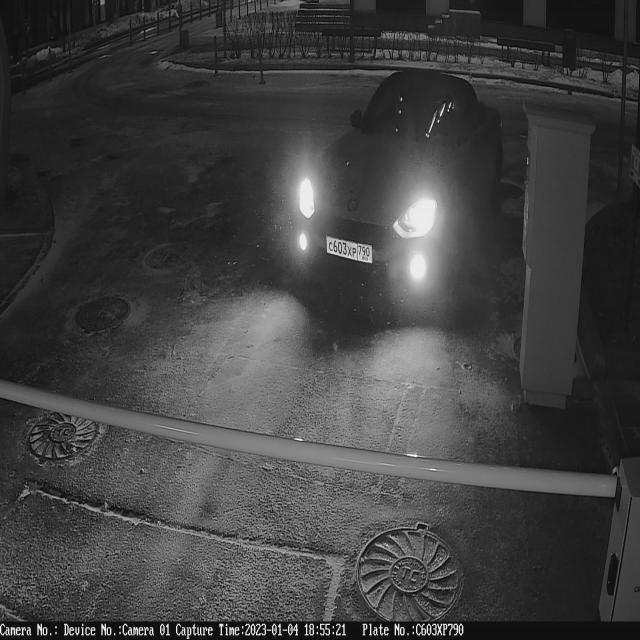car-plate-numbers: (326, 232, 376, 268)
